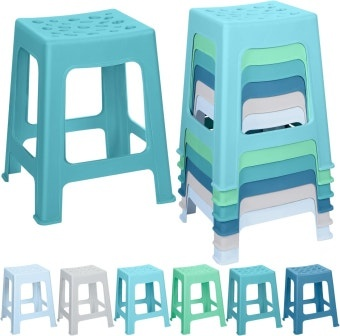plastic: (0, 263, 58, 333)
